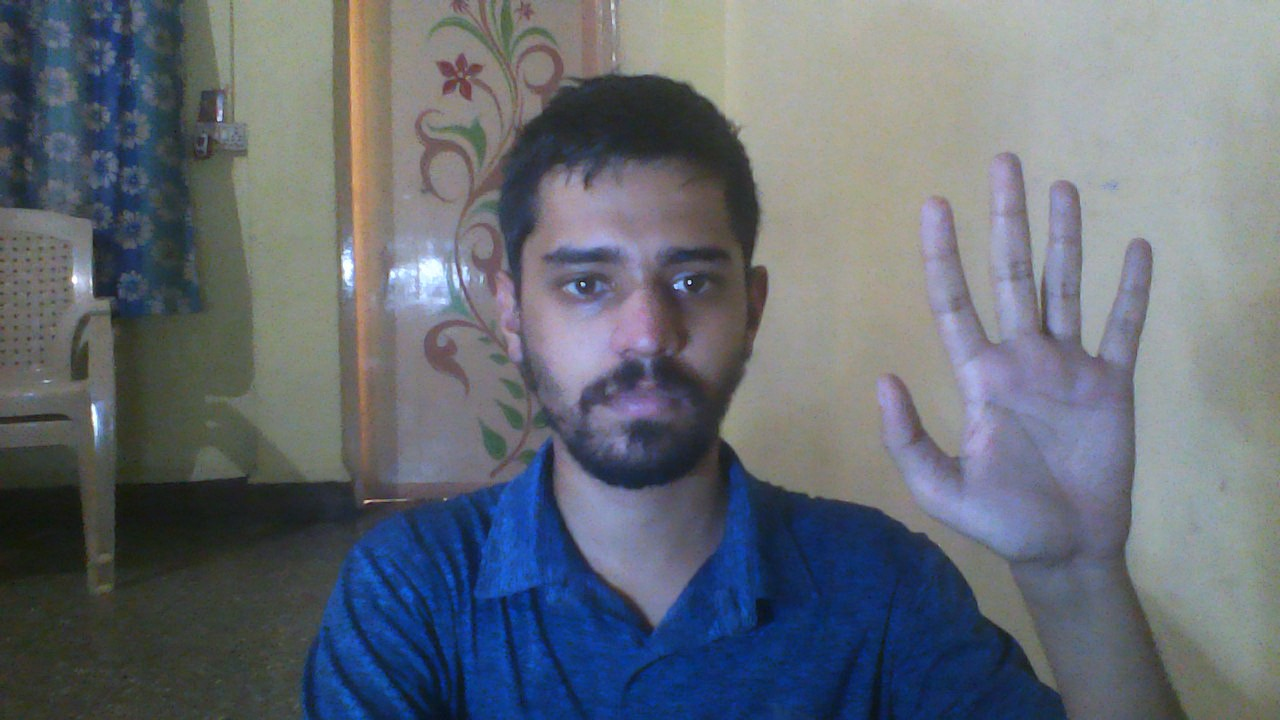hello: (867, 138, 1184, 605)
